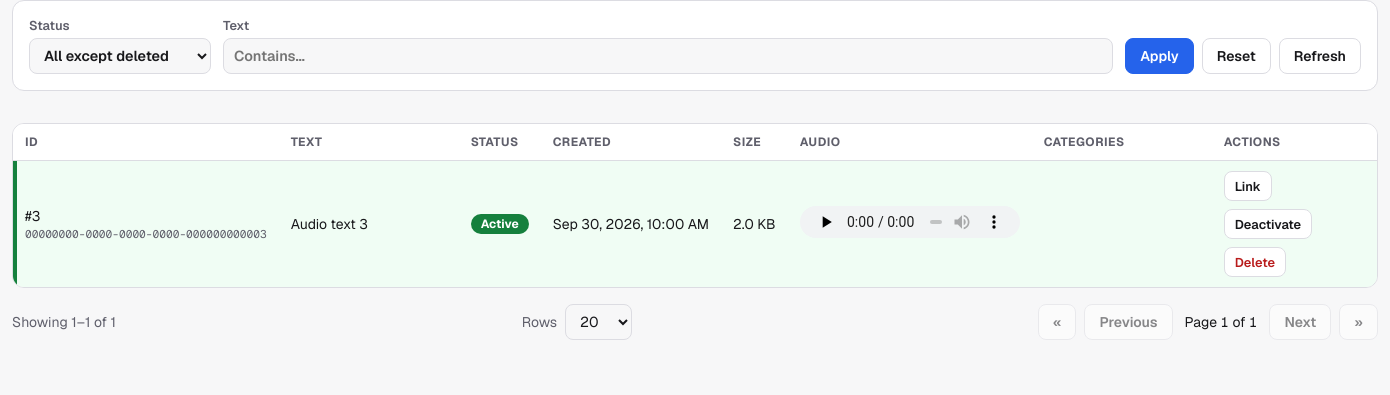
AudioLog › deactivates audio and reloads the list
Click the button named "Deactivate audio #3" at (1268, 224), box [1224, 209, 1312, 239]
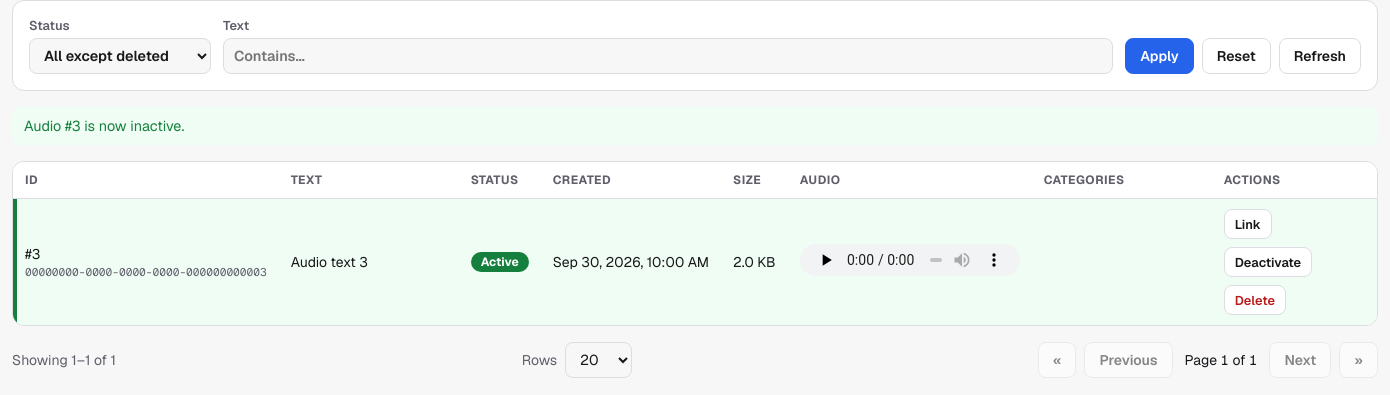
Expected: the message reads "Audio #3 is now inactive.", [24, 117, 184, 135]
